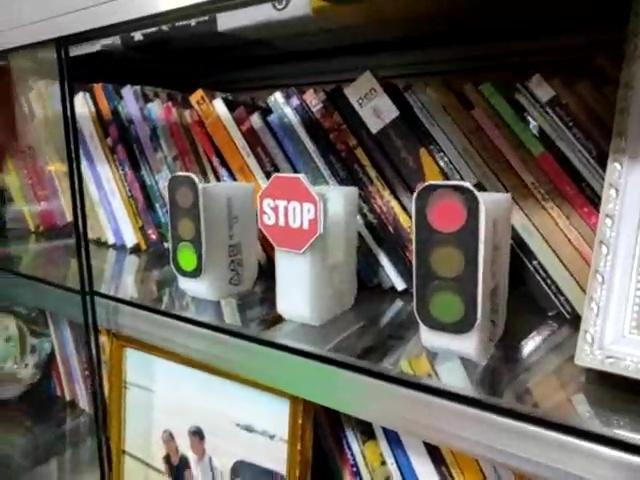Green Traffic Light: (166, 172, 207, 277)
Red Traffic Light: (411, 179, 483, 334)
Stop Sign: (256, 173, 325, 255)
